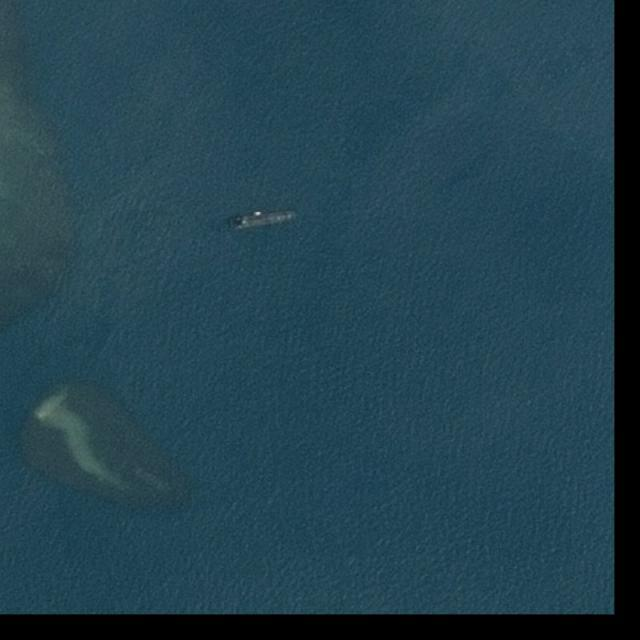ship: (230, 209, 294, 229)
